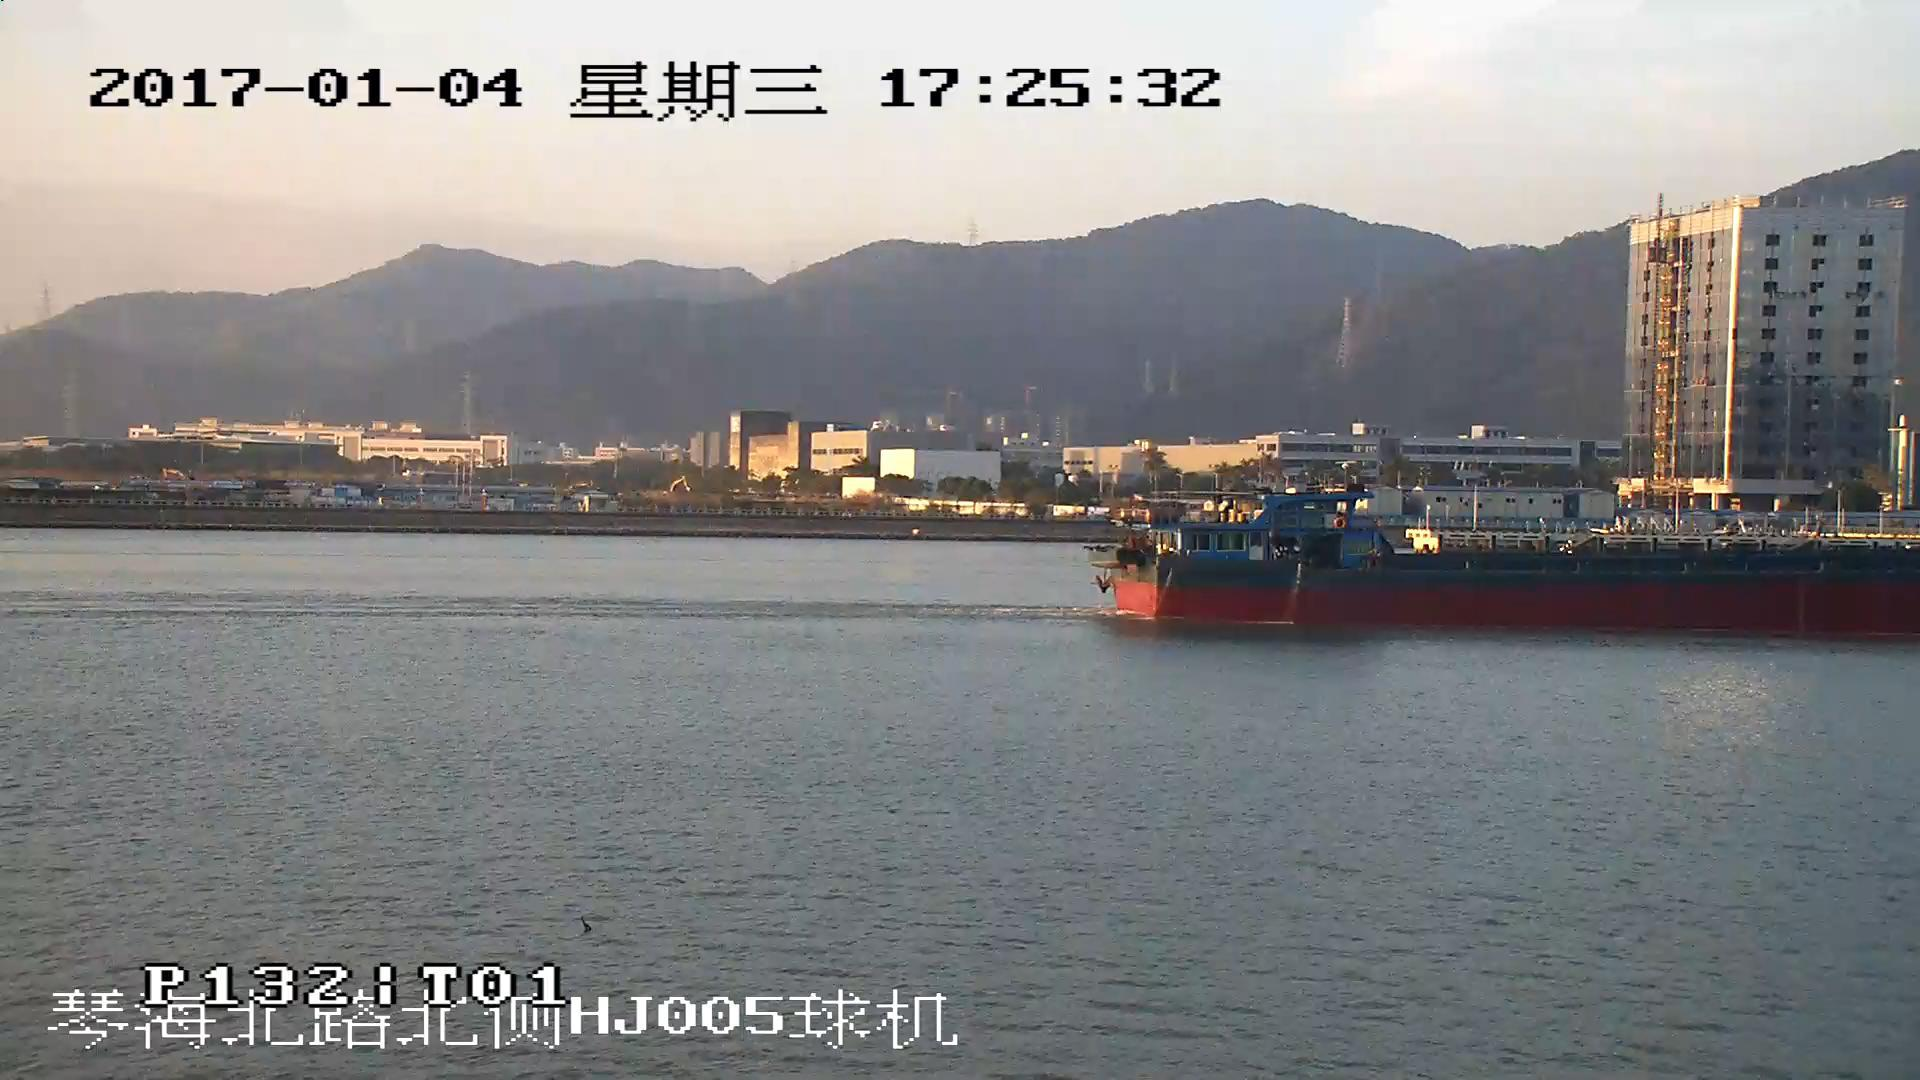Ship: (1091, 493, 1920, 642)
